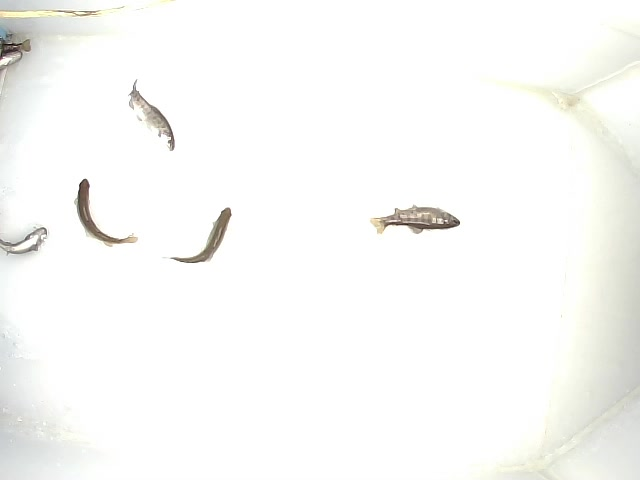fish: (73, 176, 140, 248), (160, 206, 233, 264), (126, 77, 177, 153), (368, 204, 461, 236), (1, 225, 49, 257)
